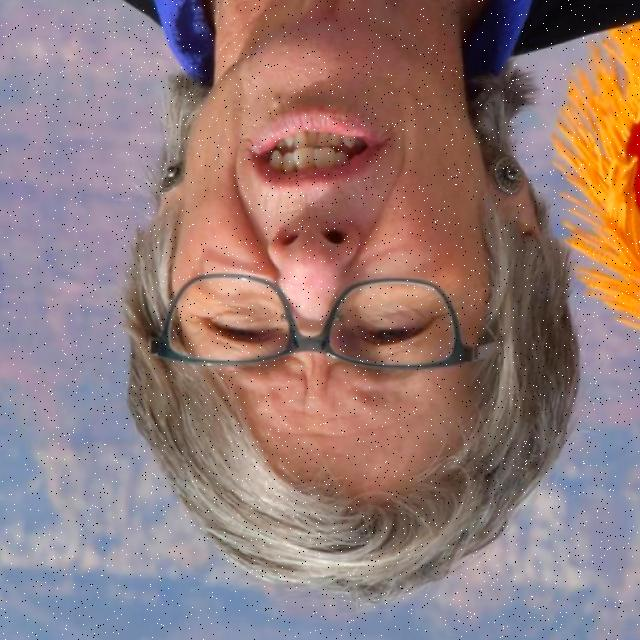puffy_eyes: (210, 306, 264, 323)
